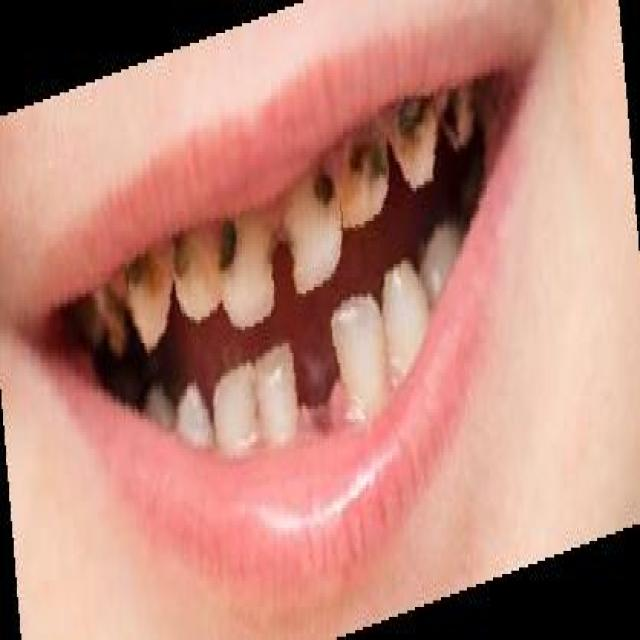caries: (348, 124, 390, 182), (125, 252, 165, 306), (398, 97, 430, 163), (172, 226, 206, 288), (215, 214, 249, 276), (267, 222, 302, 276), (442, 83, 470, 146), (314, 154, 342, 216)
